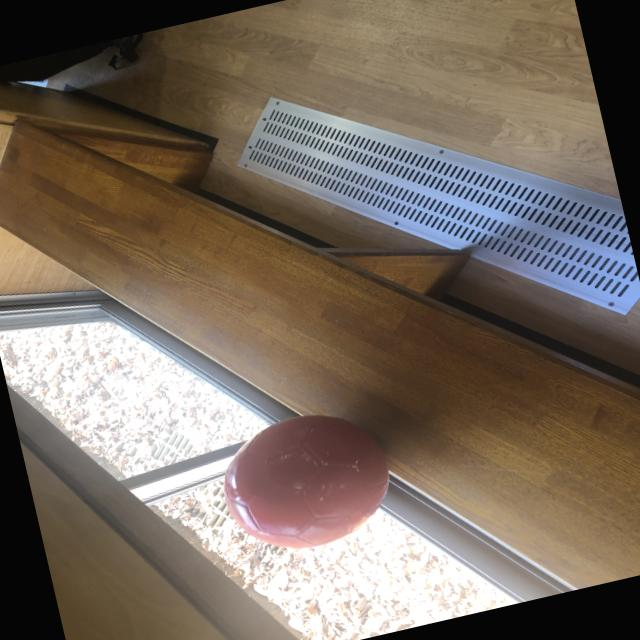red_ball: (212, 399, 406, 561)
